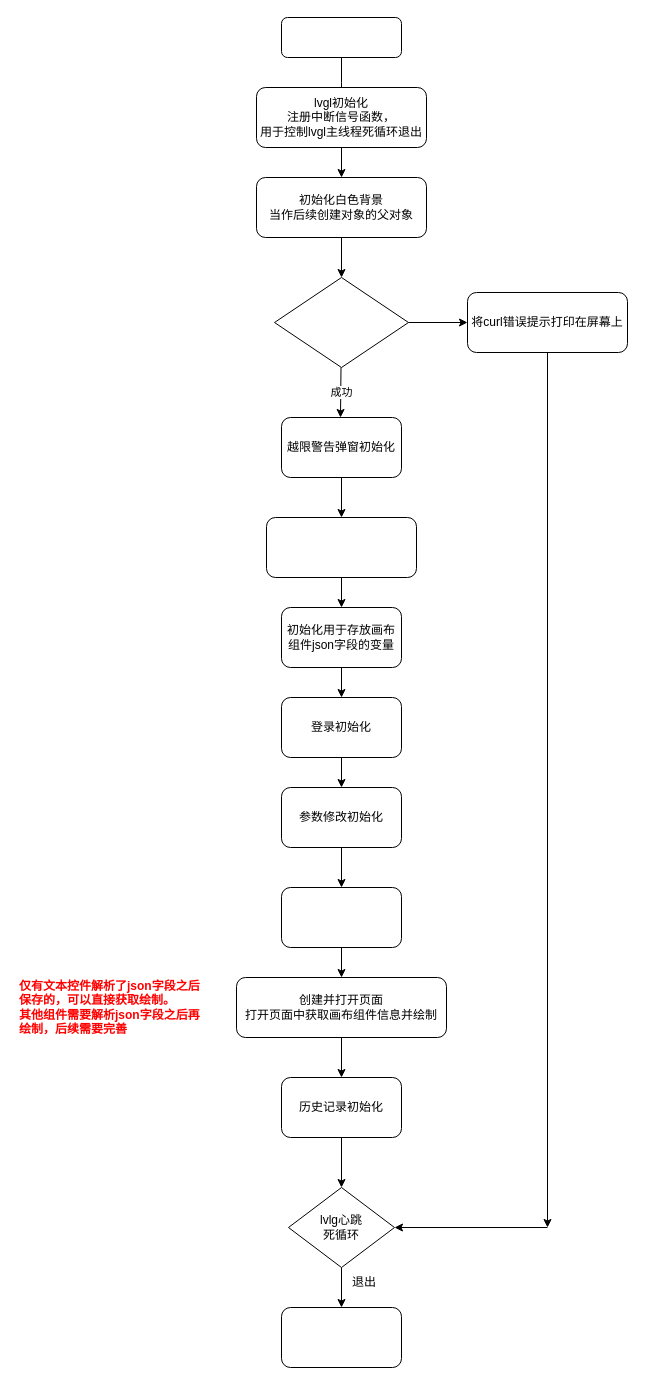
Some shapes in this 645 by 1385 pixel diagram are drawn without their labels. The box of each missing label's shape, as (x1, y1, x2, y2) in pixels:
智能电力网关UI: (280, 16, 402, 58)
注册SIGUSR1信号函数 用于越限告警弹窗: (266, 516, 416, 578)
画布组件信息 存放变量释放: (280, 1306, 402, 1368)
获取画布信息 即有几个画布 （id，名称）: (274, 276, 408, 368)
页面管理器初始化: (280, 886, 402, 948)
